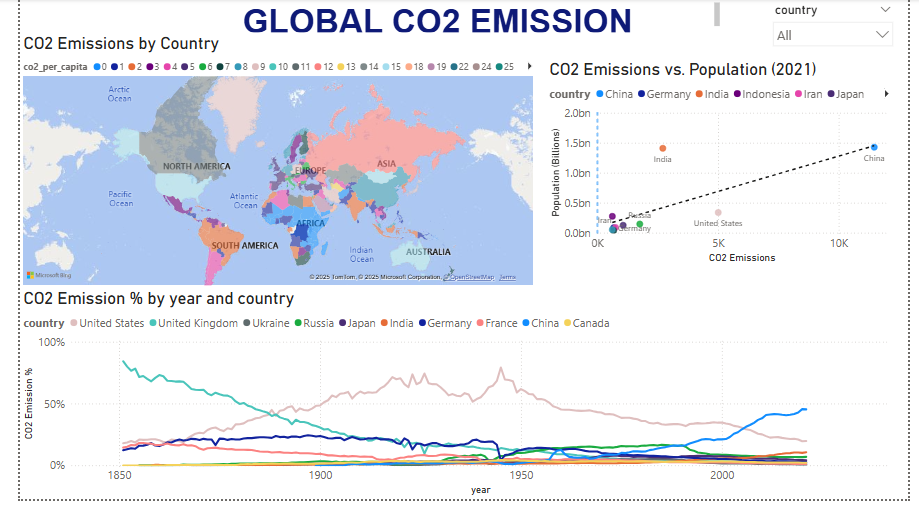

This screenshot's page, from the dashboard's own definition file:
{"tool":"powerbi","page":{"name":"Dashboard","canvas":[1280,720],"ordinal":4},"visuals":[{"type":"lineChart","fields":{"Category":["visualizing_global_co2_data.year"],"Series":["visualizing_global_co2_data.country"],"Y":["Divide(visualizing_global_co2_data.CO2 Emission %, ScopedEval(visualizing_global_co2_data.CO2 Emission %, []))"]},"box":[0,417.6,1267.2,302.4],"z":0},{"type":"filledMap","title":"CO2 Emissions by Country ","fields":{"Category":["visualizing_global_co2_data.country"],"Series":["visualizing_global_co2_data.co2_per_capita"]},"box":[0,50.4,744.5,367.2],"z":1000},{"type":"scatterChart","title":"CO2 Emissions vs. Population (2021)  ","fields":{"X":["Sum(visualizing_global_co2_data.co2)"],"Y":["Sum(visualizing_global_co2_data.population)"],"Series":["visualizing_global_co2_data.country"]},"box":[757.4,87.8,509.8,296.6],"z":2000},{"type":"textbox","box":[198.7,0,813.6,53.3],"z":3000},{"type":"slicer","fields":{"Values":["visualizing_global_co2_data.country"]},"box":[1074.2,0,193,74.9],"z":4000}]}

Visuals, with their boxes in screenshot pixels (x1, y1, x2, y2), scaled from the page's 1280x720 canvas onto the 919x505 screenshot:
lineChart - visualizing_global_co2_data.year x visualizing_global_co2_data.country: region(0, 293, 910, 504)
"CO2 Emissions by Country " filledMap: region(0, 35, 535, 293)
"CO2 Emissions vs. Population (2021)  " scatterChart: region(544, 62, 910, 270)
textbox: region(143, 0, 727, 37)
slicer - visualizing_global_co2_data.country: region(771, 0, 910, 53)
